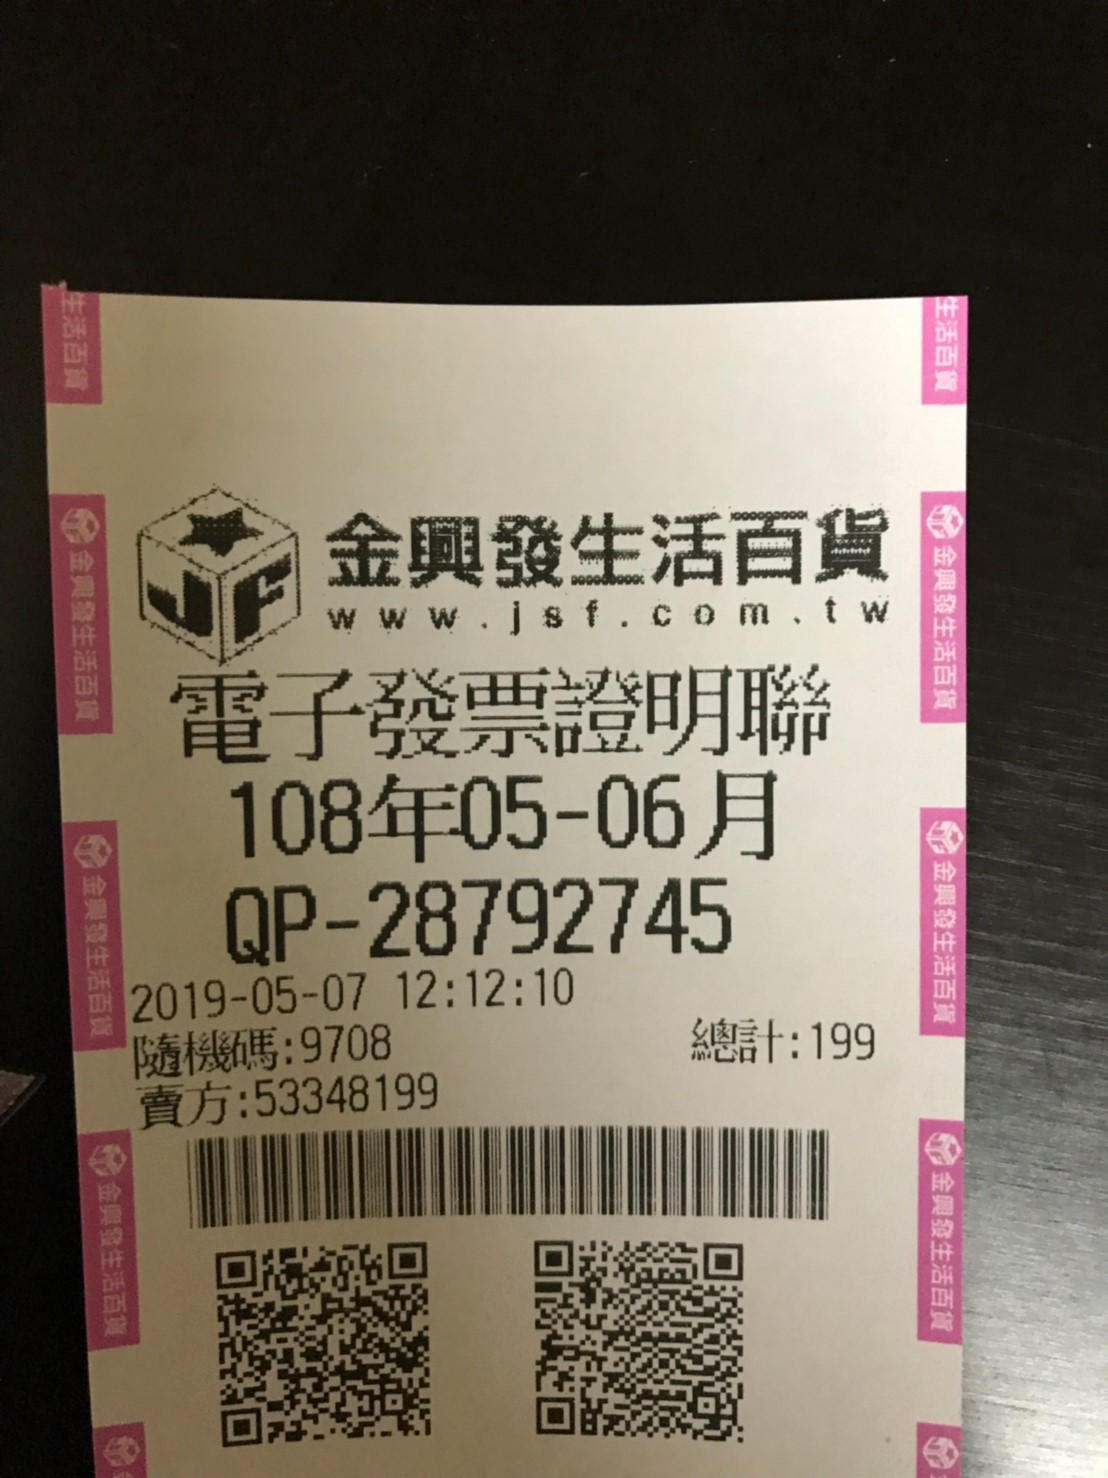Date_New: (225, 770, 783, 864)
Number_New: (365, 871, 737, 962)
